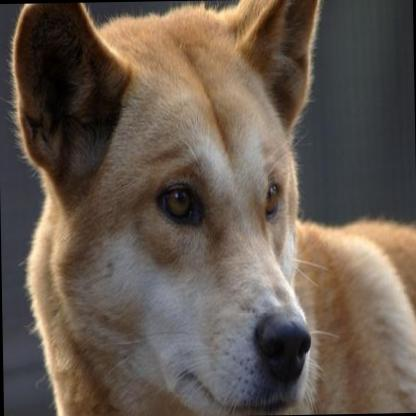dingo: (5, 0, 416, 416)
